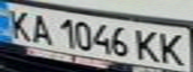0: (72, 18, 93, 52)
1: (51, 15, 75, 48)
4: (90, 21, 112, 56)
6: (109, 24, 133, 58)
A: (24, 11, 57, 45)
K: (154, 29, 190, 66), (3, 6, 36, 40), (133, 28, 163, 63)
